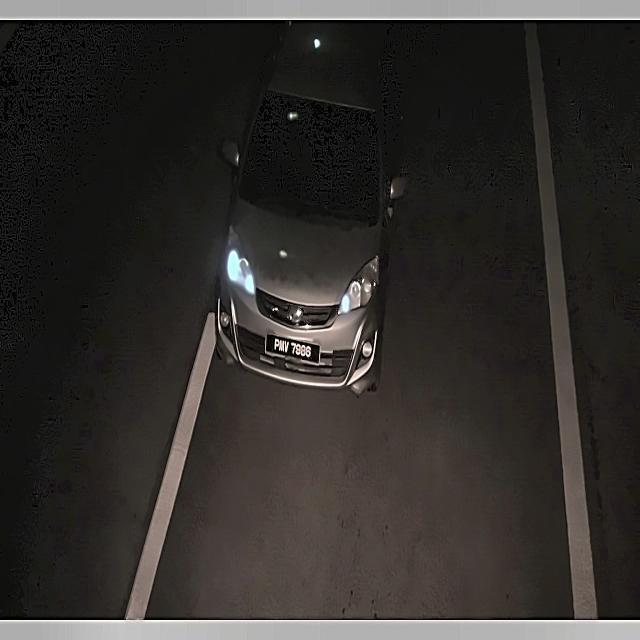car: (261, 328, 329, 370)
